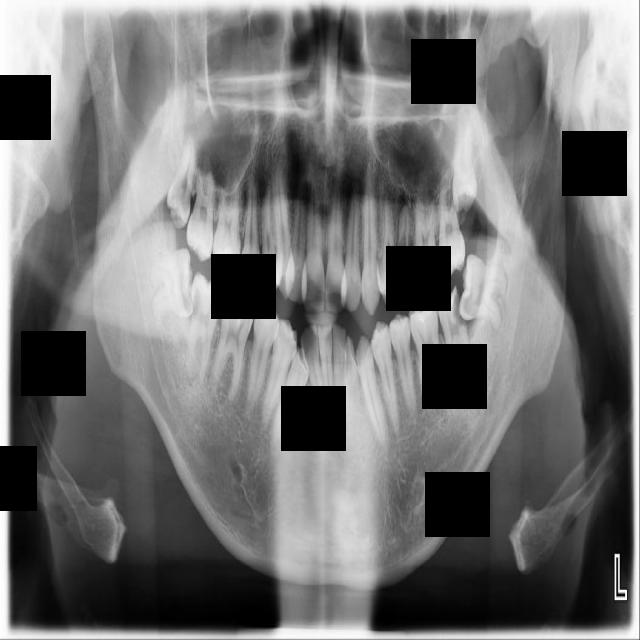3M ESPE Implant: (164, 134, 198, 232)
52: (447, 287, 468, 329)
73: (595, 572, 603, 592)
BioHorizons Implant: (438, 172, 467, 280)
BioLife Implant: (446, 96, 479, 211)
Biomet 3i Implant: (453, 253, 512, 330)
Blue Sky Bio Implant: (432, 283, 481, 389)
Caries: (184, 151, 220, 264)
Implant: (183, 271, 225, 388)
Keystone Dental Implant: (144, 246, 199, 321)
